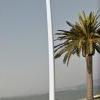Palm tree: (54, 6, 100, 100)
